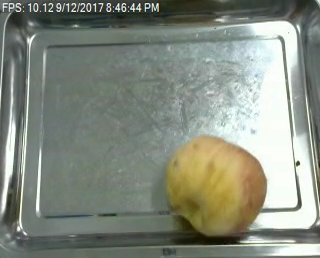Peach: (166, 135, 267, 237)
